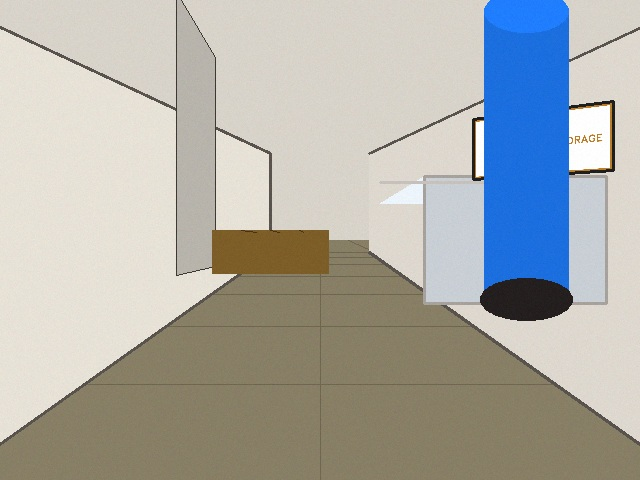directional_sign: (473, 101, 613, 179)
hospital_bed: (380, 176, 606, 303)
pallet: (212, 230, 328, 273)
person: (484, 11, 568, 299)
